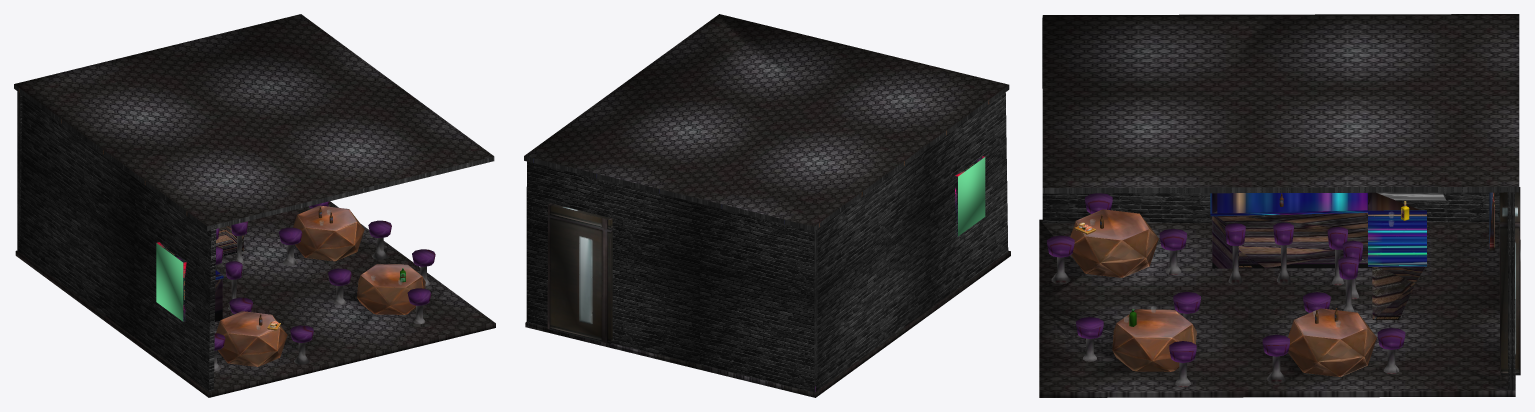
The model's file is drome-bar.glb.
3 renders of one model, left to right at view 1: azimuth 30°, elevation 25°; view 2: azimuth 150°, elevation 25°; view 3: azimuth 270°, elevation 25°, orthographic. The views are drawn at different scales.
Parts seen in each view (by area): view 1: Object_18, Object_21, Object_5, Object_3, Object_19, Object_10, Object_8; view 2: Object_21, Object_18, Object_6, Object_19, Object_10; view 3: Object_18, Object_5, Object_3, Object_8, Object_21, Object_4, Object_19, Object_6, Object_20.
Part boxes in pixels (box(x1,y1,x2,y2)): Object_18: box(14, 14, 495, 397); Object_21: box(17, 91, 216, 391); Object_5: box(216, 205, 425, 366); Object_3: box(214, 201, 435, 371); Object_19: box(14, 84, 494, 230); Object_10: box(156, 243, 183, 321); Object_8: box(215, 225, 243, 321); Object_21: box(526, 92, 1008, 392); Object_18: box(524, 14, 1010, 397); Object_6: box(547, 203, 612, 343); Object_19: box(524, 85, 1009, 231); Object_10: box(958, 157, 985, 236); Object_18: box(1039, 14, 1519, 397); Object_5: box(1070, 209, 1376, 376); Object_3: box(1047, 193, 1405, 386); Object_8: box(1212, 192, 1425, 319); Object_21: box(1042, 18, 1515, 390); Object_4: box(1210, 193, 1426, 266); Object_19: box(1042, 186, 1519, 193); Object_6: box(1499, 187, 1520, 375); Object_20: box(1376, 192, 1445, 200).
Size of the model in its own units: 5.8 by 3.31 by 6.83.
20 materials, 19 textured.
